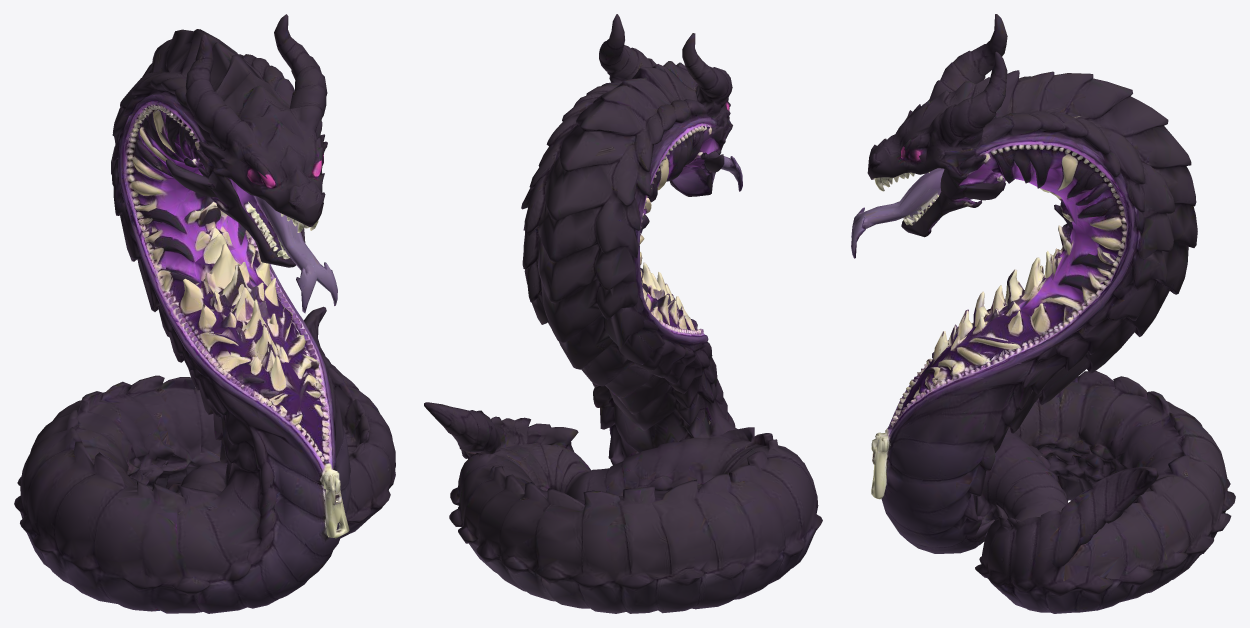
The picture shows the model from 3 angles, left to right: view 1: azimuth 30°, elevation 25°; view 2: azimuth 150°, elevation 25°; view 3: azimuth 270°, elevation 25°; orthographic projection. The views are drawn at different scales.
Visible parts, largest first — view 1: Mesh_0; view 2: Mesh_0; view 3: Mesh_0.
Part boxes in pixels (x1,y1,x2,y2): Mesh_0: [14, 14, 395, 613]; Mesh_0: [424, 14, 822, 613]; Mesh_0: [851, 14, 1235, 613].
Bounding box in the file's own units: 1.3 × 1.9 × 1.28.
1 material, 1 textured.
